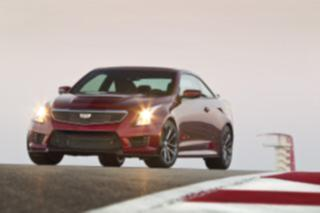cadillac: (77, 111, 93, 120)
